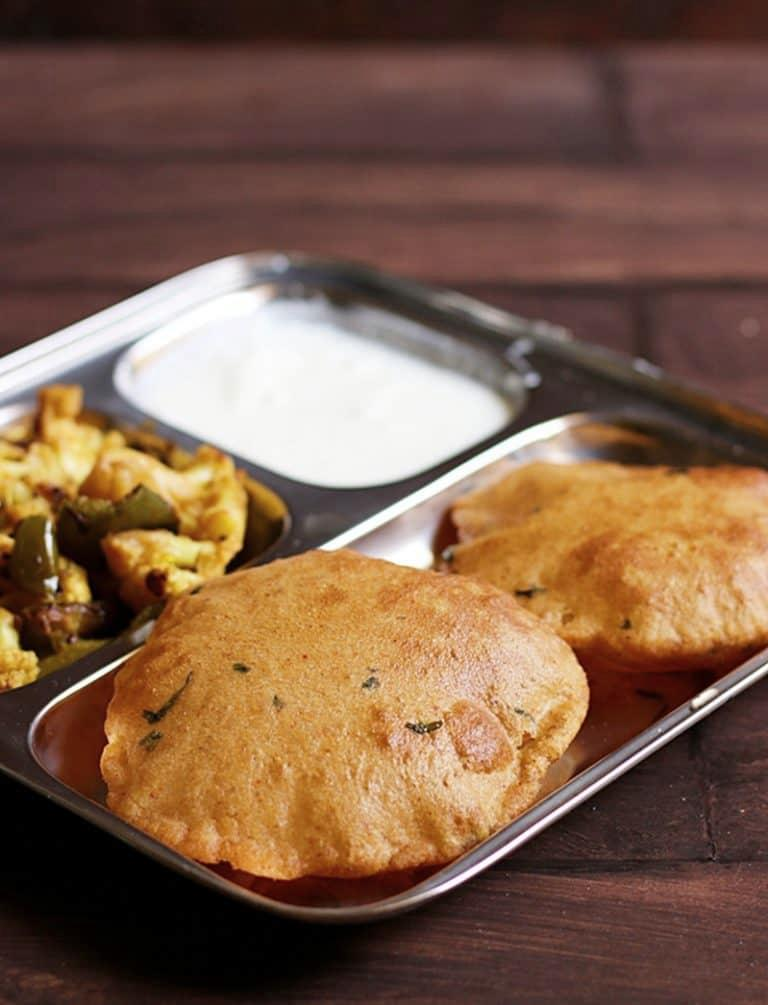puri: (122, 562, 625, 890)
